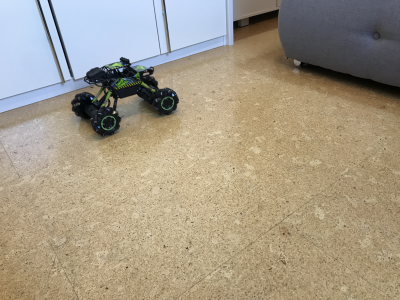remote control car: (69, 54, 181, 137)
